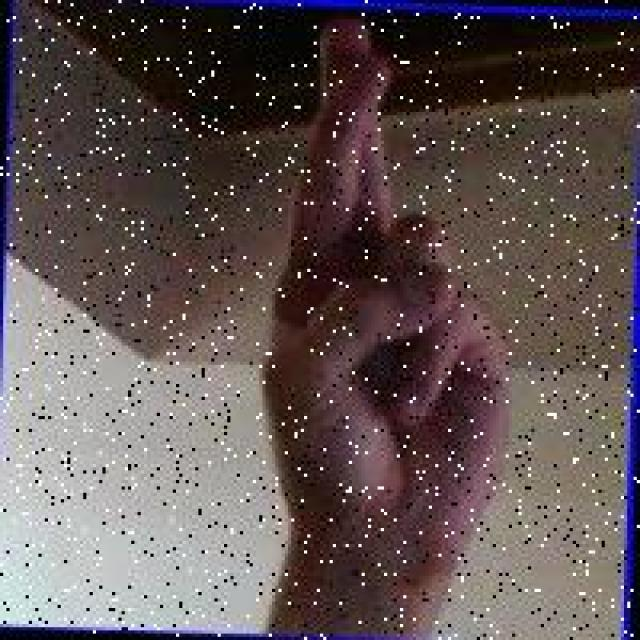R: (250, 11, 531, 578)
